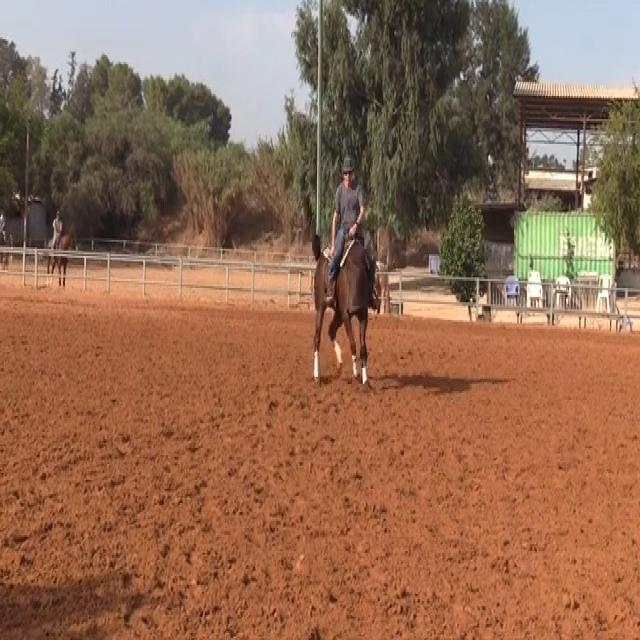horse: (309, 230, 377, 390)
